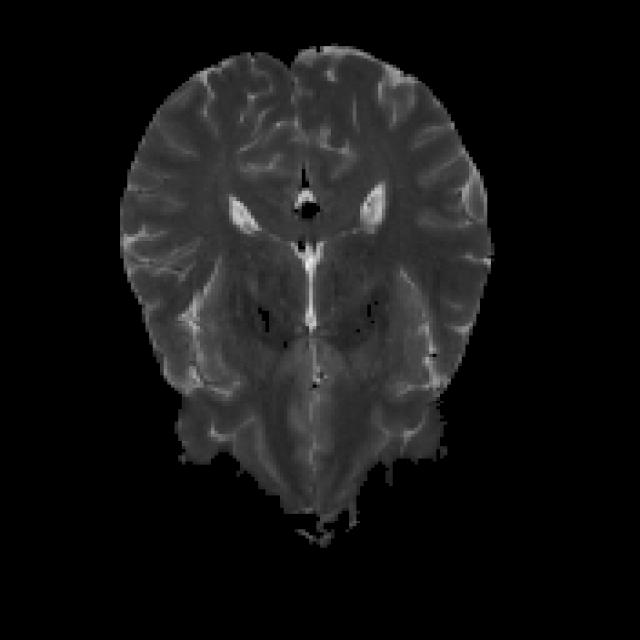parkinson: (117, 40, 494, 545)
